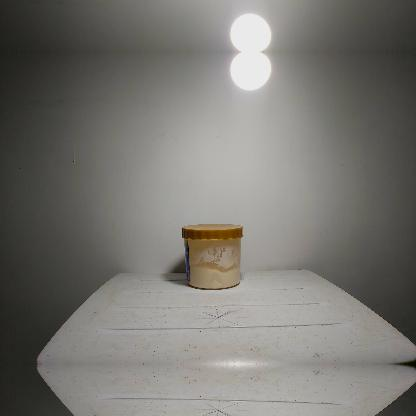Lady-s-Choice: (180, 222, 245, 290)
